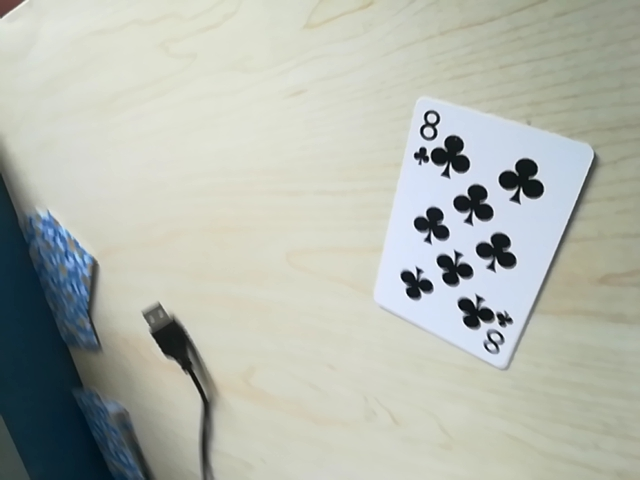mh 8: (463, 310, 514, 358), (411, 102, 437, 169)
